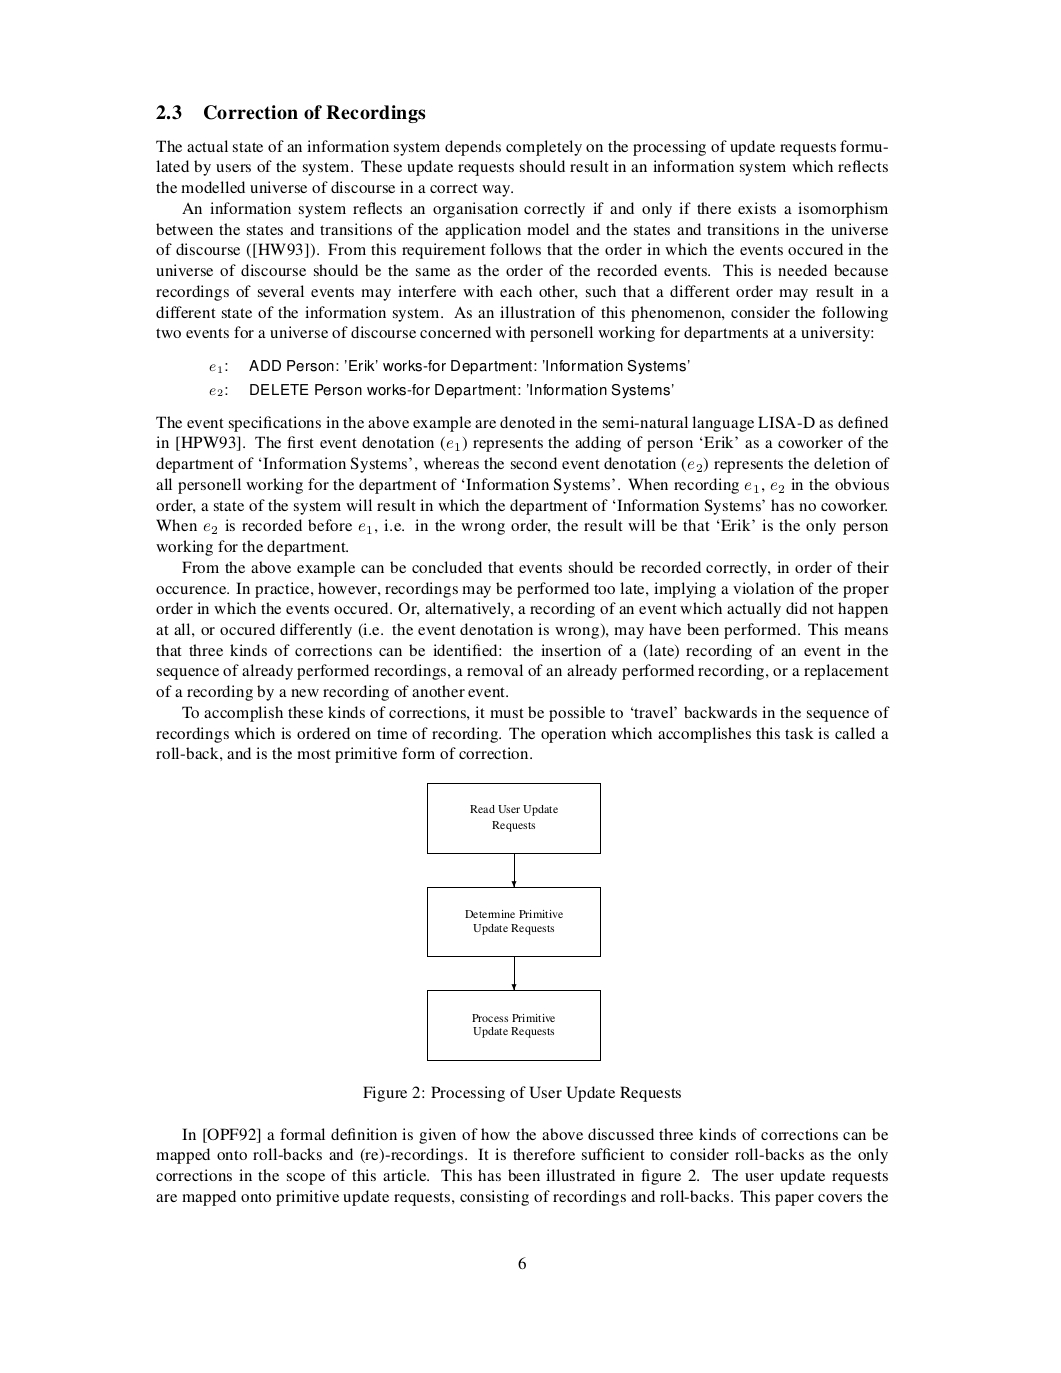figure: (427, 782, 600, 1061)
